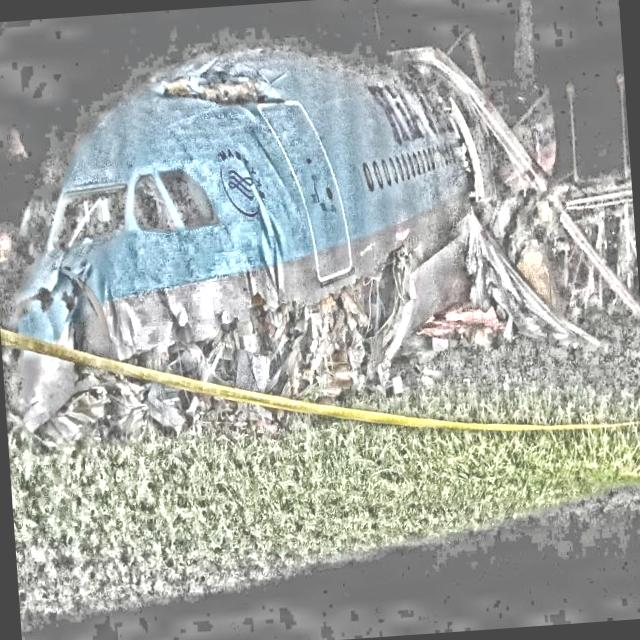crack: (160, 74, 284, 119)
